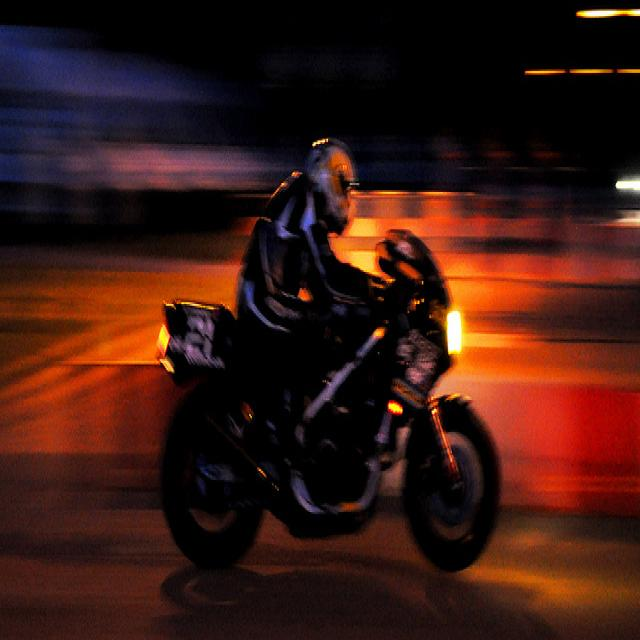Motorbike: (140, 140, 500, 592)
